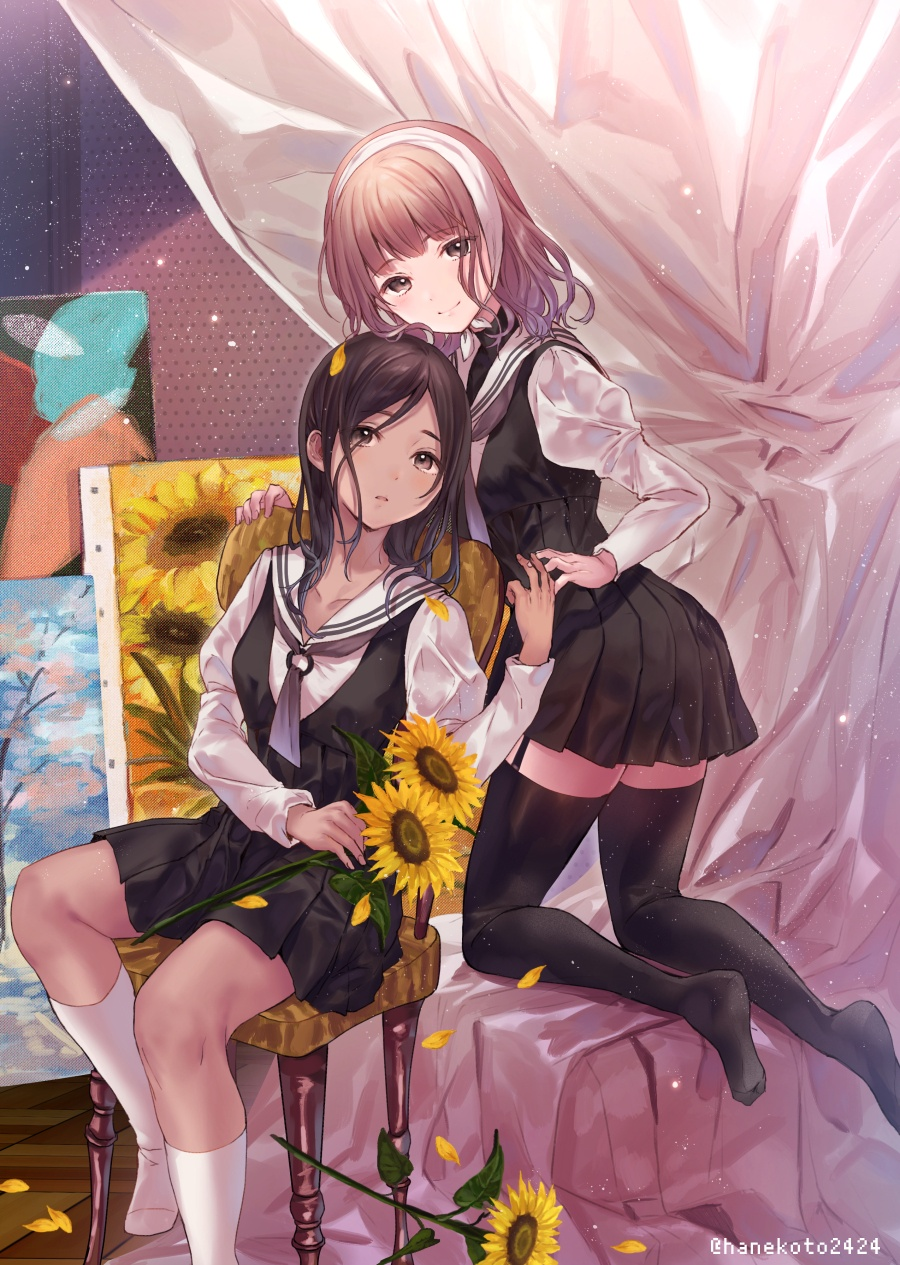纸片人正脸: (316, 122, 513, 346), (299, 326, 476, 537)
